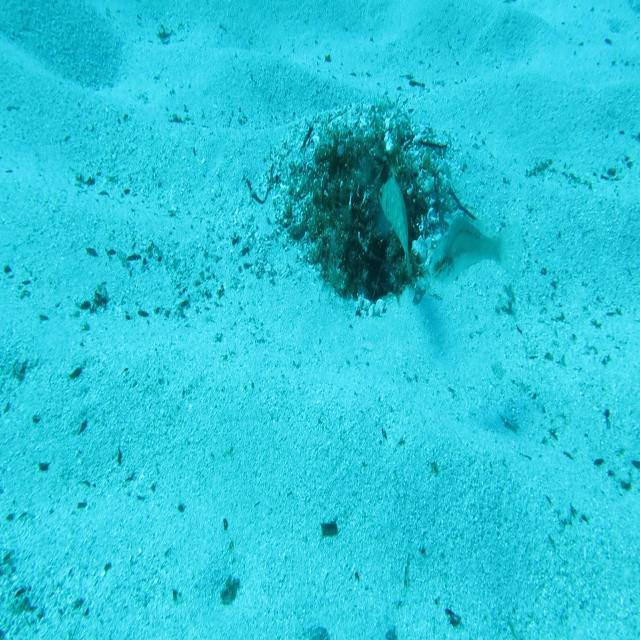FAN: (375, 166, 414, 280)
core_nest: (341, 152, 388, 185)
female: (427, 209, 526, 290)
nest: (277, 95, 475, 327)
vegetation: (321, 520, 341, 540)
